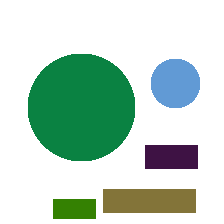circle: (28, 54, 134, 160), (151, 59, 199, 107)
rectangle: (103, 189, 195, 212), (145, 145, 197, 168), (53, 199, 95, 218)
